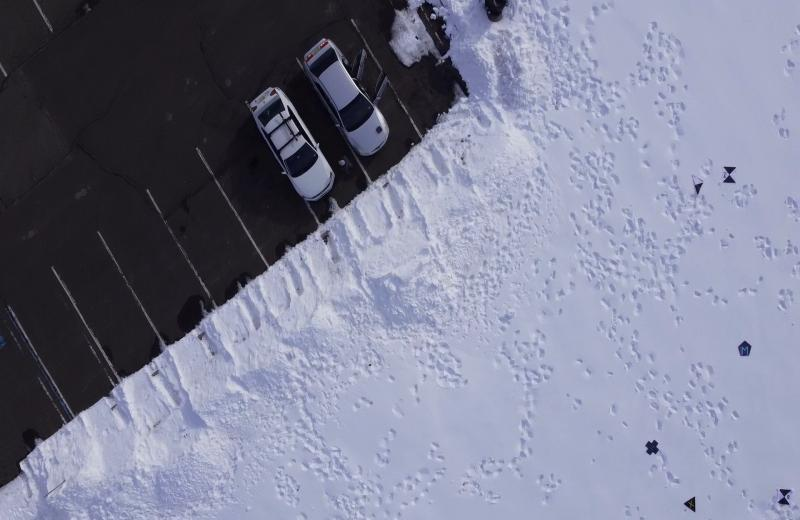Cross: (643, 438, 661, 457)
Pentagon: (738, 339, 753, 358)
Triangle: (682, 496, 696, 514)
